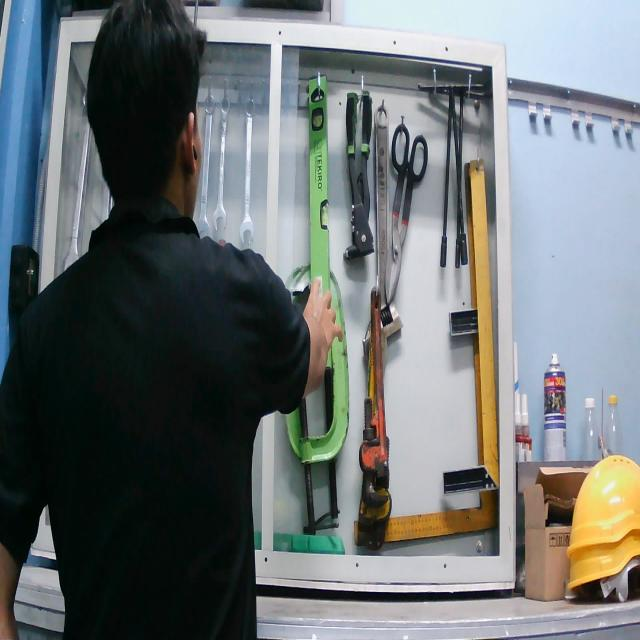water_pass: (301, 67, 334, 369)
